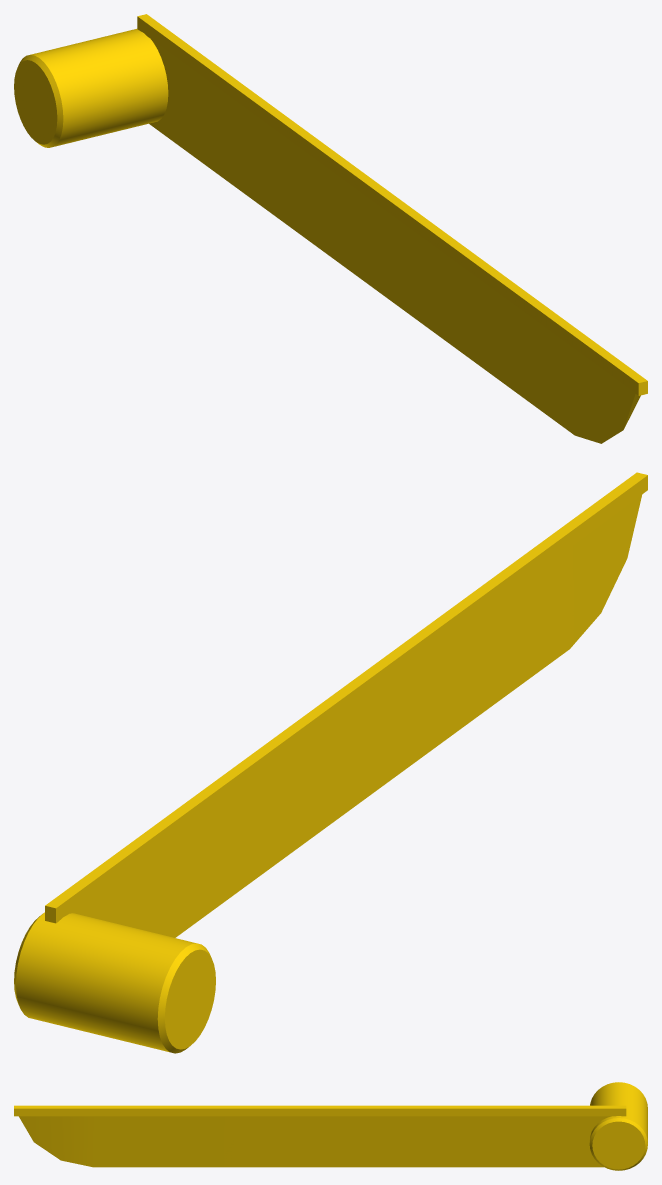
File: chopper1.fbx
The picture shows the model from 3 angles, top to bottom: view 1: azimuth 30°, elevation 25°; view 2: azimuth 150°, elevation 25°; view 3: azimuth 270°, elevation 25°; orthographic projection. The views are drawn at different scales.
Parts seen in each view (by area): view 1: Cube_3, Cylinder, Cube_4; view 2: Cube_3, Cylinder, Cube_4; view 3: Cube_3, Cube_4, Cylinder.
Boxes of the visible parts, <box> form: Cube_3: <box>149,39,640,443</box>; Cylinder: <box>14,29,168,147</box>; Cube_4: <box>137,14,647,395</box>; Cube_3: <box>70,494,642,937</box>; Cylinder: <box>14,912,215,1053</box>; Cube_4: <box>45,472,647,923</box>; Cube_3: <box>19,1116,611,1167</box>; Cube_4: <box>14,1105,626,1116</box>; Cylinder: <box>589,1082,647,1170</box>.
Bounding box in the file's own units: 16.76 × 12.56 × 118.
